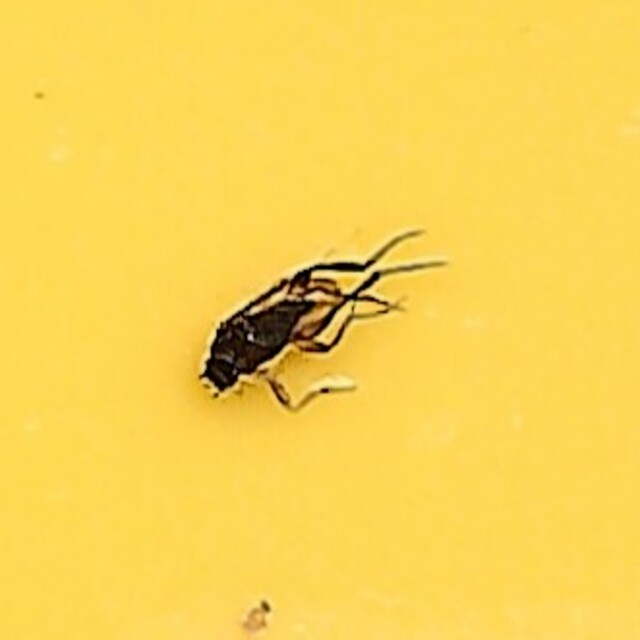Brachycera: (193, 229, 447, 411)
